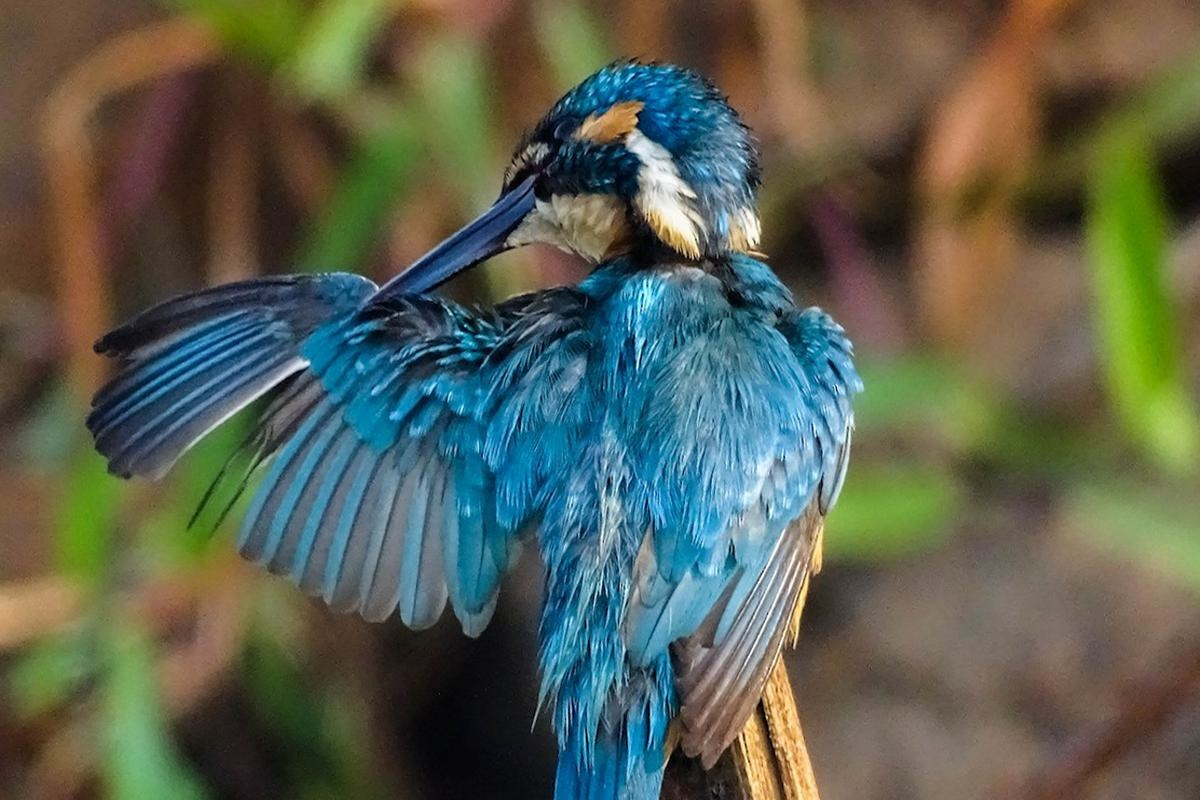kingfisher: (87, 58, 866, 792)
